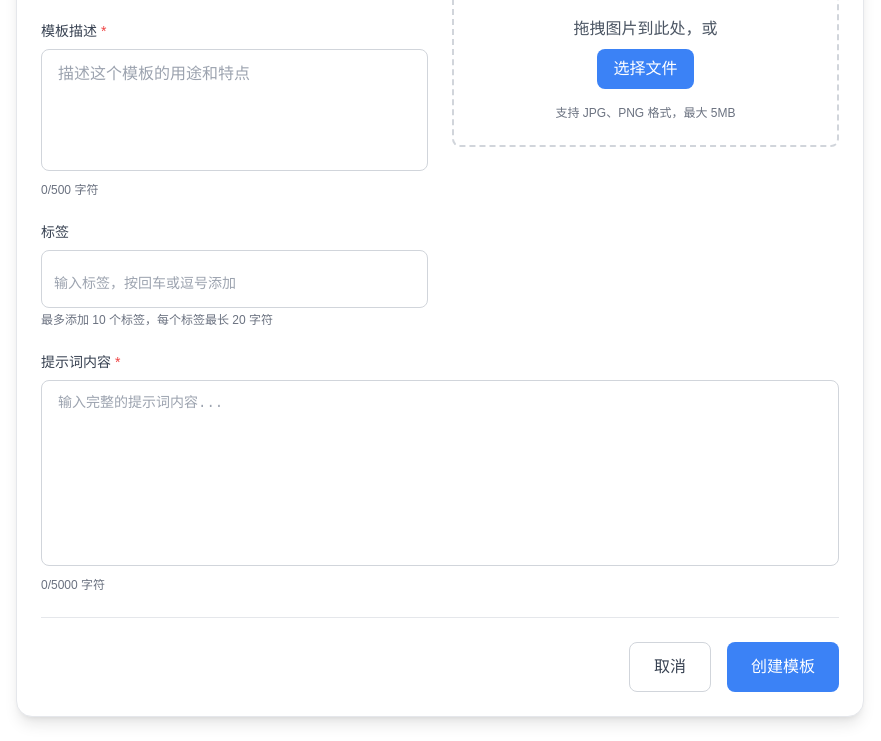
Test: TemplateUpload Component › handles content input correctly
(page scrolled)
Type "测试内容" into the text box with test id "content-input" at (440,473), box [41,380,839,566]
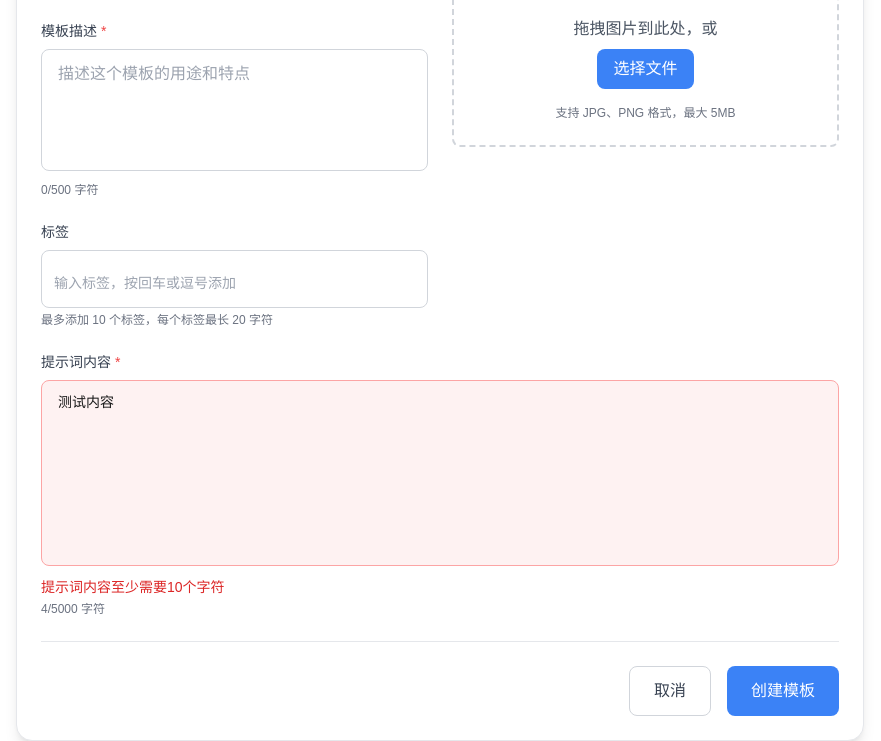
expect the text "4/5000 字符" is shown: met, box [41,602,105,616]
